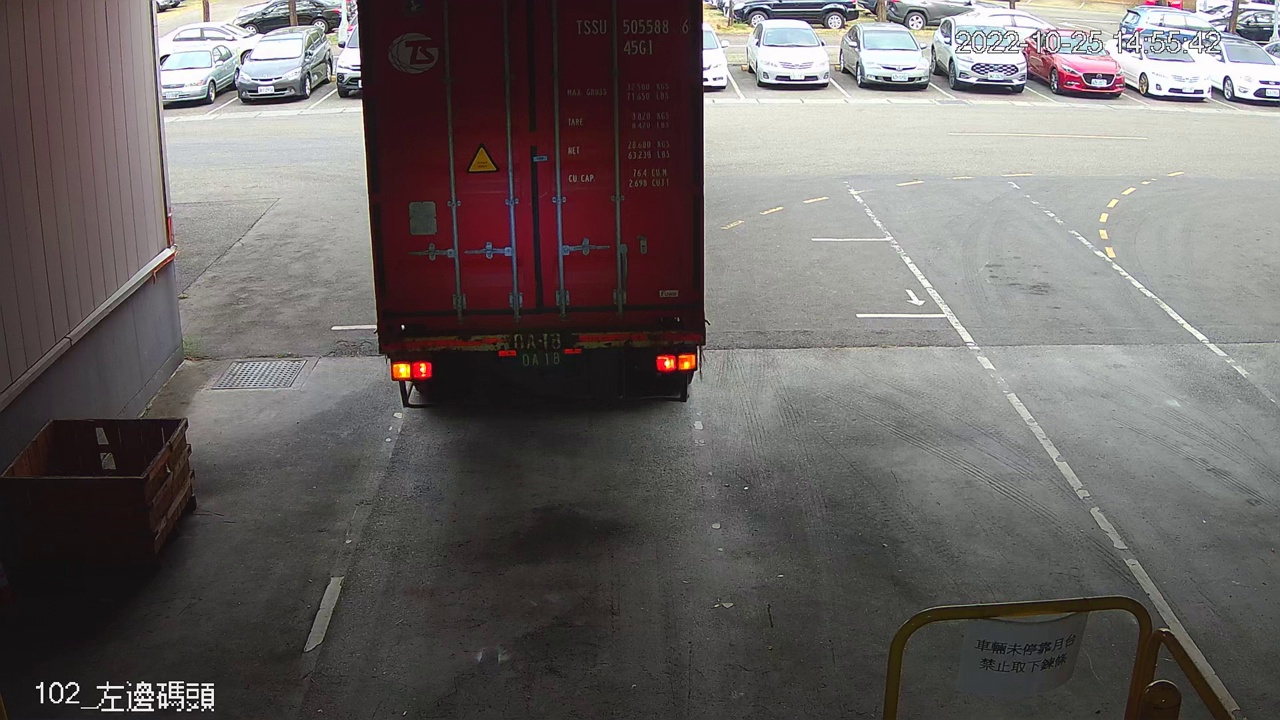container: (571, 13, 694, 61)
